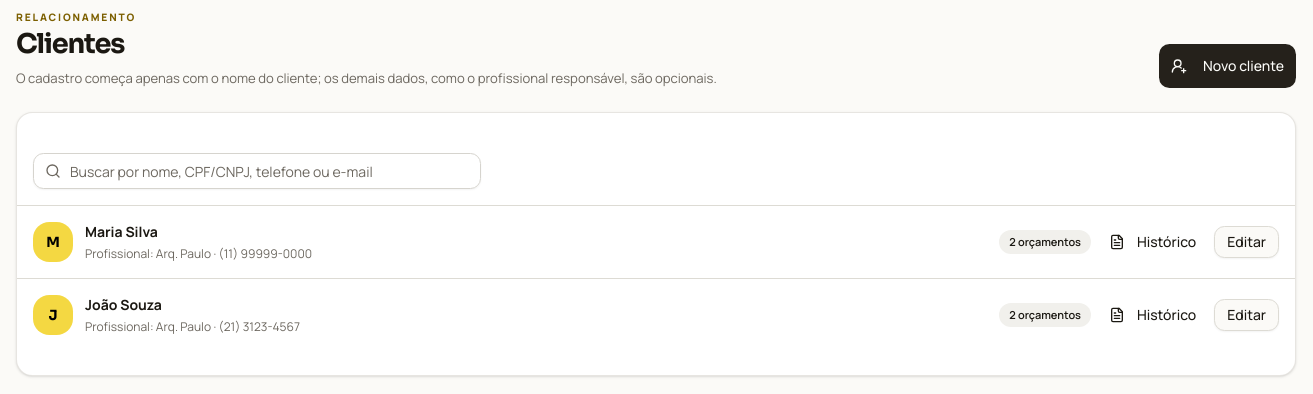
CustomersPage — CPF/CNPJ, telefone e e-mail › acha o cliente pelos números do CPF ou telefone, sem pontuação
Type "52998224725" into the field labelled "Buscar por nome, CPF/CNPJ, telefone ou e-mail". click: (257, 171)
box: [33,153,481,189]
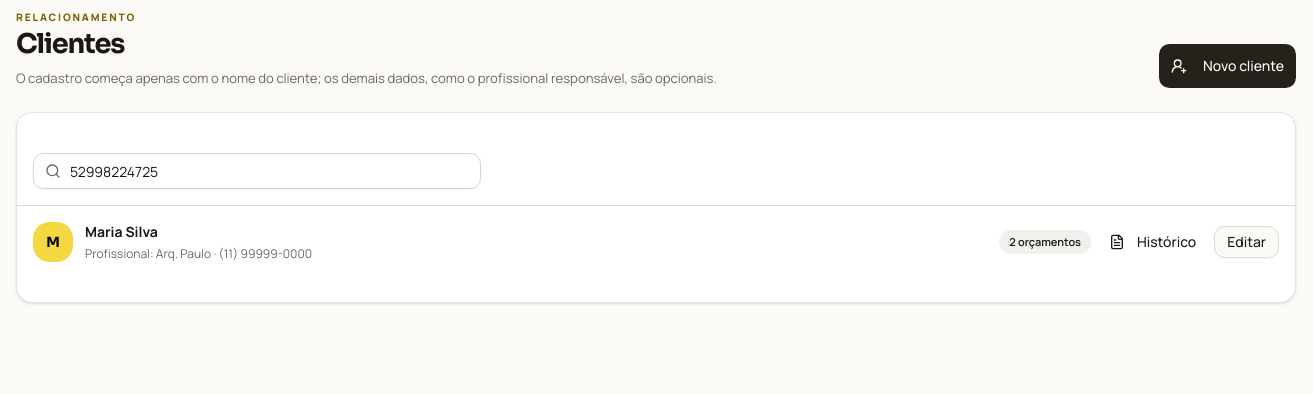
Expected: the text "Maria Silva" is shown, [85,222,158,241]
Expected: the text "João Souza" is gone
Replace the text in the field named "Buscar por nome, CPF/CNPJ, telefone ou e-mail" with "2131234567". click: (257, 171)
box: [33,153,481,189]
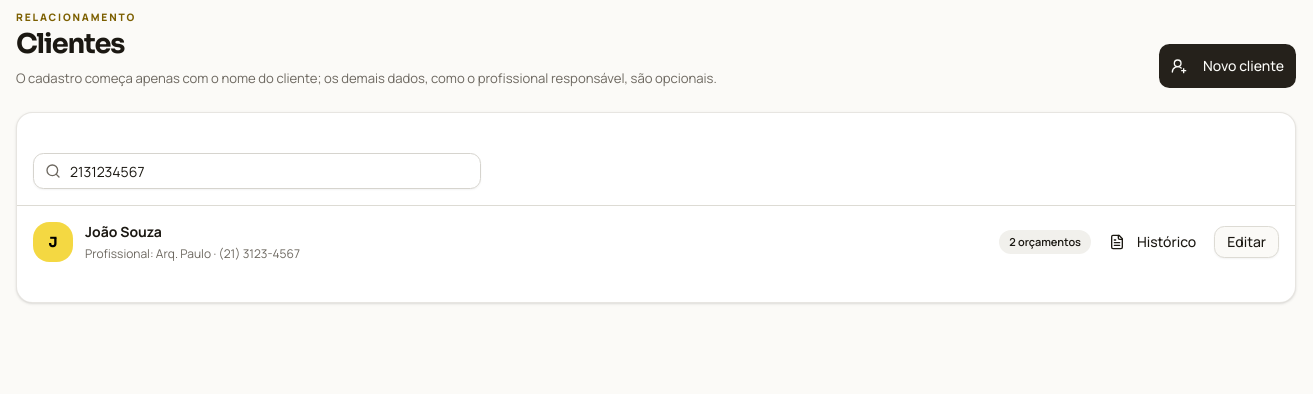
Expected: the text "Maria Silva" is gone
Expected: the text "João Souza" is shown, [85,222,162,241]
